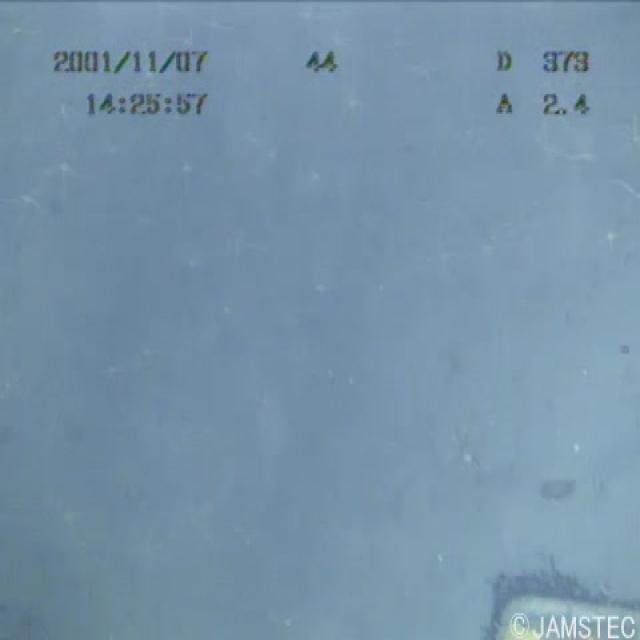plastic: (460, 466, 639, 638)
